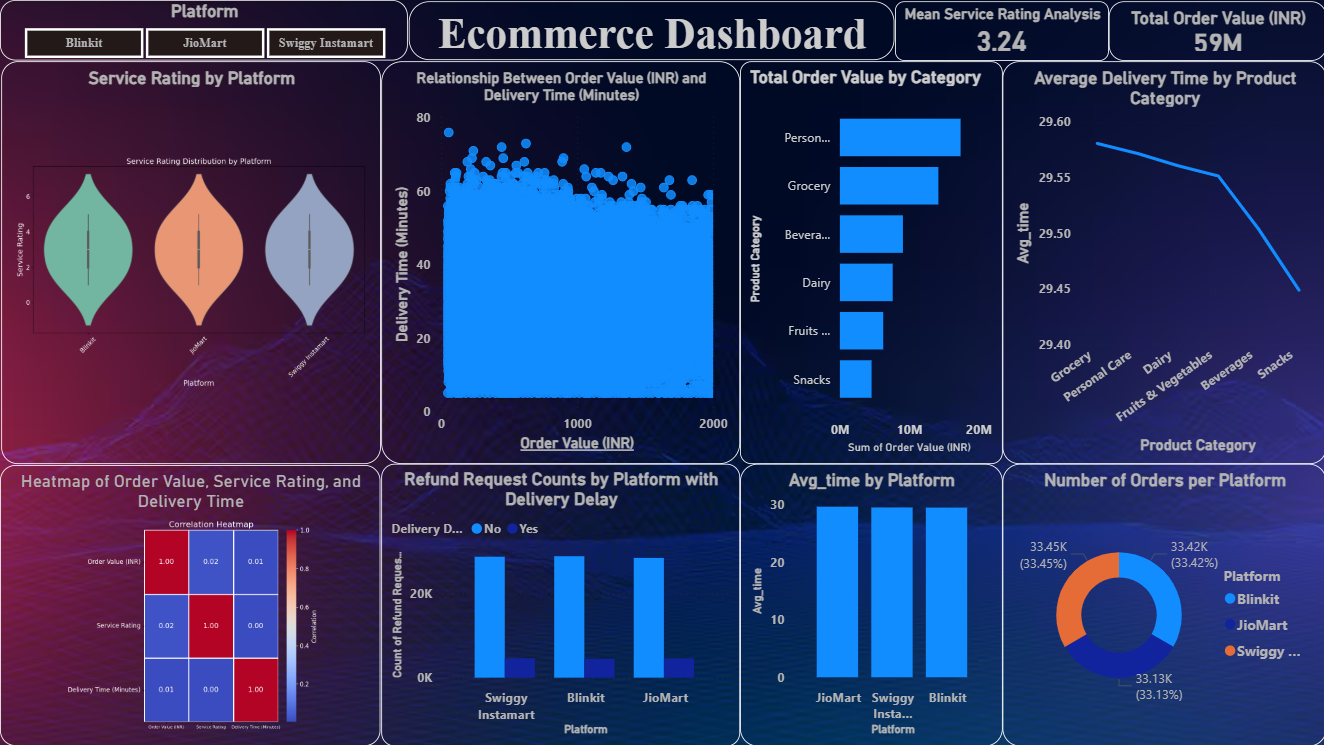

The dashboard page shown, as its layout file describes it:
{"tool":"powerbi","page":{"name":"Page 1","canvas":[1280,720],"ordinal":0},"visuals":[{"type":"clusteredColumnChart","fields":{"Category":["public ecommerce_delivery_analytics_new.Platform"],"Y":["public ecommerce_delivery_analytics_new.Avg_time"]},"box":[714.2,447.6,253.4,272.7],"z":0},{"type":"pythonVisual","title":"Service Rating by Platform","fields":{"Values":["public ecommerce_delivery_analytics_new.Service Rating","public ecommerce_delivery_analytics_new.Platform"]},"box":[1.2,58.8,366.2,388.8],"z":1000},{"type":"lineChart","title":"Average Delivery Time by Product Category","fields":{"Category":["public ecommerce_delivery_analytics_new.Product Category"],"Y":["public ecommerce_delivery_analytics_new.Avg_time"]},"box":[967.5,58.8,312.5,388.8],"z":2000},{"type":"textbox","title":"Ecommerce Dashboard","box":[394.3,1.4,468.6,57.1],"z":3000},{"type":"card","title":"Total Order Value (INR)","fields":{"Values":["Sum(public ecommerce_delivery_analytics_new.Order Value (INR))"]},"box":[1070,1.2,210,57.5],"z":4000},{"type":"card","title":"Mean Service Rating Analysis","fields":{"Values":["Avg(public ecommerce_delivery_analytics_new.Service Rating)"]},"box":[863.8,1.2,206.2,57.5],"z":5000},{"type":"pythonVisual","title":"Heatmap of Order Value, Service Rating, and Delivery Time","fields":{"Values":["public ecommerce_delivery_analytics_new.Order Value (INR)","public ecommerce_delivery_analytics_new.Service Rating","public ecommerce_delivery_analytics_new.Delivery Time (Minutes)"]},"box":[0,449,367.2,271.2],"z":6000},{"type":"donutChart","title":"Number of Orders per Platform","fields":{"Y":["CountNonNull(public ecommerce_delivery_analytics_new.Order ID)"],"Series":["public ecommerce_delivery_analytics_new.Platform"]},"box":[967.6,447.6,312.5,272.7],"z":7000},{"type":"clusteredColumnChart","title":"Refund Request Counts by Platform with Delivery Delay","fields":{"Category":["public ecommerce_delivery_analytics_new.Platform"],"Y":["CountNonNull(public ecommerce_delivery_analytics_new.Refund Requested)"],"Series":["public ecommerce_delivery_analytics_new.Delivery Delay"]},"box":[368,447.6,346.2,272.7],"z":8000},{"type":"scatterChart","title":"Relationship Between Order Value (INR) and Delivery Time (Minutes)","fields":{"X":["public ecommerce_delivery_analytics_new.Order Value (INR)"],"Y":["public ecommerce_delivery_analytics_new.Delivery Time (Minutes)"]},"box":[367.5,58.8,346.2,388.8],"z":9000},{"type":"slicer","title":"Platform","fields":{"Values":["public ecommerce_delivery_analytics_new.Platform"]},"box":[0,0,393.8,58.8],"z":10000},{"type":"clusteredBarChart","title":"Total Order Value by Category","fields":{"Category":["public ecommerce_delivery_analytics_new.Product Category"],"Y":["Sum(public ecommerce_delivery_analytics_new.Order Value (INR))"]},"box":[713.8,58.8,253.8,388.8],"z":11000}]}

Visuals, with their boxes in screenshot pixels (x1, y1, x2, y2), scaled from the page's 1280x720 canvas onto the 1324x745 screenshot:
clusteredColumnChart - public ecommerce_delivery_analytics_new.Platform x public ecommerce_delivery_analytics_new.Avg_time: region(739, 463, 1001, 744)
"Service Rating by Platform" pythonVisual: region(1, 61, 380, 463)
"Average Delivery Time by Product Category" lineChart: region(1001, 61, 1323, 463)
"Ecommerce Dashboard" textbox: region(408, 1, 893, 61)
"Total Order Value (INR)" card: region(1107, 1, 1323, 61)
"Mean Service Rating Analysis" card: region(893, 1, 1107, 61)
"Heatmap of Order Value, Service Rating, and Delivery Time" pythonVisual: region(0, 465, 380, 744)
"Number of Orders per Platform" donutChart: region(1001, 463, 1323, 744)
"Refund Request Counts by Platform with Delivery Delay" clusteredColumnChart: region(381, 463, 739, 744)
"Relationship Between Order Value (INR) and Delivery Time (Minutes)" scatterChart: region(380, 61, 738, 463)
"Platform" slicer: region(0, 0, 407, 61)
"Total Order Value by Category" clusteredBarChart: region(738, 61, 1001, 463)
